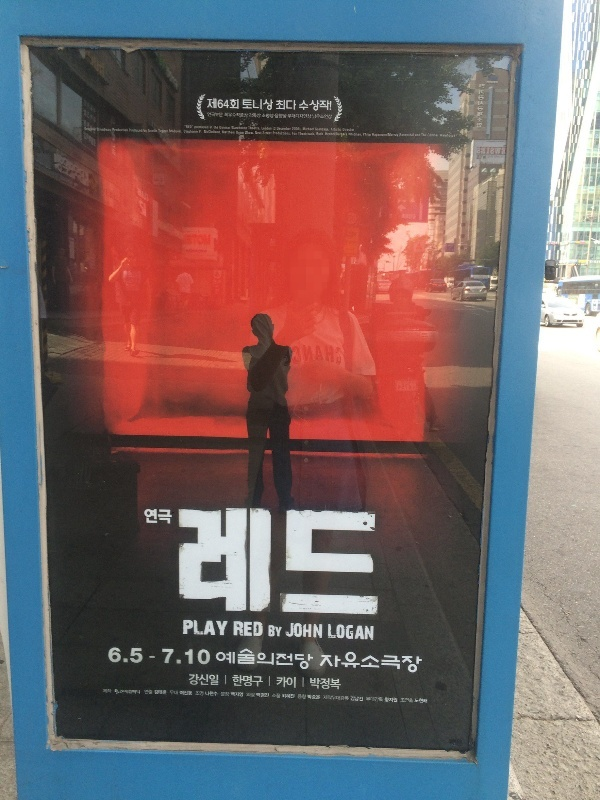text: (177, 504, 192, 619), (193, 504, 208, 619), (209, 504, 224, 619), (225, 504, 240, 619), (241, 504, 256, 619), (257, 504, 272, 619), (273, 504, 288, 619), (289, 504, 304, 619), (305, 504, 320, 619), (321, 504, 336, 619), (337, 504, 352, 619), (353, 504, 368, 619), (369, 504, 379, 619), (161, 55, 176, 92), (65, 152, 80, 188), (337, 650, 352, 675), (353, 650, 368, 675), (369, 650, 384, 675), (385, 650, 400, 675), (401, 650, 416, 675), (225, 647, 240, 671), (241, 647, 256, 671), (257, 647, 272, 671), (273, 647, 288, 671), (289, 647, 304, 671), (322, 650, 336, 675), (289, 346, 304, 368), (305, 346, 320, 368), (321, 346, 336, 368), (55, 152, 64, 188), (337, 622, 352, 642), (353, 622, 368, 642), (81, 152, 89, 188), (113, 646, 128, 665), (177, 647, 192, 666), (193, 647, 208, 666), (241, 619, 256, 638), (193, 618, 208, 637), (209, 618, 224, 637), (129, 646, 143, 665), (162, 647, 176, 666), (289, 622, 304, 639), (305, 622, 320, 639), (145, 508, 160, 525), (481, 82, 486, 132), (193, 123, 208, 139), (209, 123, 224, 139), (225, 123, 240, 139), (241, 123, 256, 139), (257, 123, 272, 139), (273, 123, 288, 139), (289, 123, 304, 139), (305, 123, 320, 139), (321, 123, 336, 139), (337, 123, 352, 139), (305, 647, 314, 671), (193, 673, 208, 687), (89, 50, 96, 80), (97, 50, 104, 80), (161, 508, 173, 525), (241, 675, 256, 688), (321, 677, 336, 690), (481, 145, 496, 158), (216, 647, 224, 671), (209, 98, 224, 110), (257, 99, 272, 111), (305, 100, 320, 112), (193, 234, 208, 246), (183, 618, 192, 637), (225, 98, 239, 110), (328, 622, 336, 642), (243, 99, 256, 111), (277, 676, 288, 690), (417, 650, 423, 675), (97, 126, 112, 136), (113, 126, 128, 136), (129, 126, 144, 136), (145, 126, 160, 136), (161, 126, 176, 136), (183, 123, 192, 139), (353, 123, 362, 139), (276, 99, 288, 111), (209, 673, 219, 687), (273, 624, 283, 638), (369, 129, 384, 138), (385, 129, 400, 138), (401, 129, 416, 138), (417, 129, 432, 138), (433, 129, 448, 138), (233, 619, 240, 638), (257, 619, 264, 638), (321, 100, 332, 112), (310, 677, 320, 690), (84, 126, 96, 136), (497, 145, 506, 158), (289, 676, 297, 690), (283, 346, 288, 368), (337, 346, 342, 368), (369, 696, 384, 703), (137, 188, 144, 203), (232, 675, 240, 688), (369, 622, 374, 642), (289, 99, 297, 111), (184, 234, 192, 246), (307, 694, 320, 701), (323, 695, 336, 702), (273, 693, 288, 699), (401, 698, 416, 704), (225, 112, 240, 118), (241, 112, 256, 118), (273, 113, 288, 119), (289, 114, 304, 120), (305, 114, 320, 120), (139, 201, 144, 218), (257, 692, 269, 699), (337, 695, 349, 702), (209, 112, 223, 118), (449, 129, 458, 138), (179, 690, 192, 696), (385, 697, 398, 703), (257, 675, 263, 688), (108, 646, 112, 665), (225, 618, 229, 637), (129, 690, 144, 695), (177, 55, 179, 92), (196, 691, 208, 697), (321, 114, 333, 120), (209, 691, 219, 698), (402, 214, 416, 219), (149, 689, 160, 695), (353, 696, 364, 702), (417, 698, 428, 704), (337, 677, 342, 690), (177, 126, 183, 136), (262, 113, 272, 119), (145, 188, 149, 203), (268, 624, 272, 638), (231, 692, 240, 698), (247, 692, 256, 698), (479, 82, 480, 132), (289, 693, 296, 700), (120, 689, 128, 695), (300, 100, 304, 112), (103, 689, 112, 694), (363, 129, 368, 138), (149, 655, 160, 659), (169, 690, 176, 696), (282, 693, 288, 700), (298, 694, 304, 701), (189, 673, 192, 687), (136, 690, 144, 695), (477, 145, 480, 158), (209, 647, 211, 666), (154, 690, 160, 696), (161, 690, 167, 696), (225, 691, 230, 698), (321, 622, 323, 639), (145, 201, 147, 218), (235, 692, 240, 698), (257, 112, 262, 118), (145, 689, 149, 695), (209, 234, 211, 246), (205, 691, 208, 698), (221, 691, 224, 698), (108, 689, 112, 694), (241, 692, 244, 698), (287, 622, 288, 639), (305, 694, 307, 701), (366, 696, 368, 703), (207, 98, 208, 110), (273, 99, 274, 111), (177, 690, 178, 696), (351, 696, 352, 702), (415, 698, 416, 704), (207, 112, 208, 118)
